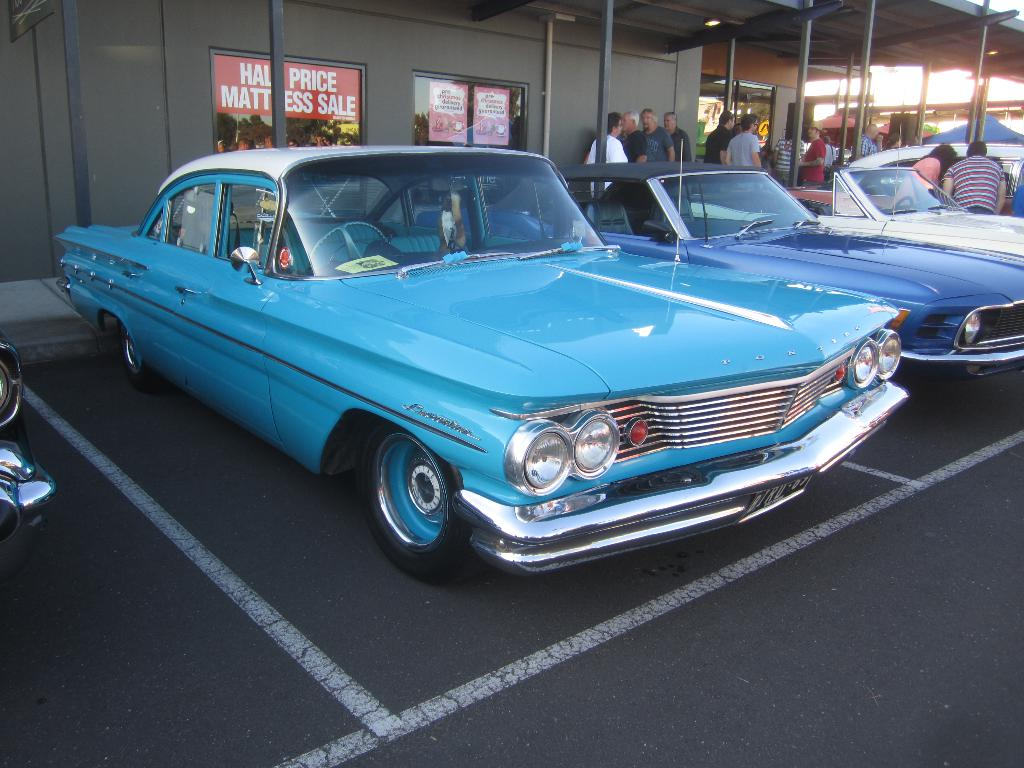cars: (52, 147, 908, 576), (557, 161, 1023, 383), (690, 164, 1023, 259)
